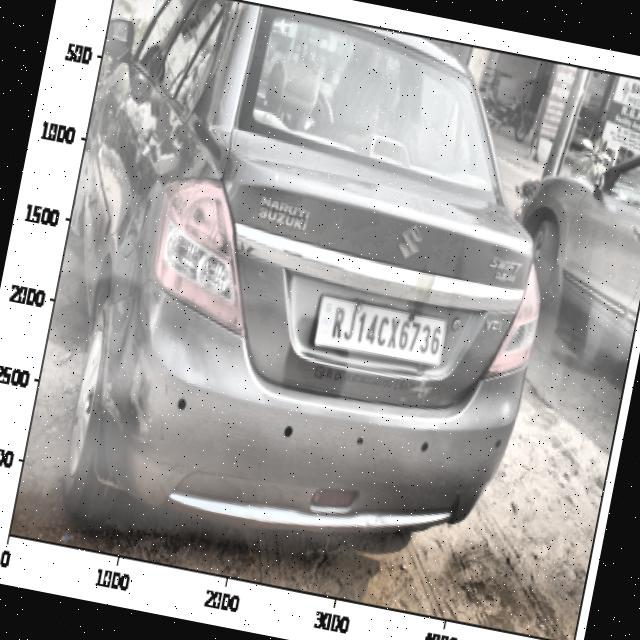license_plate: (322, 292, 450, 370)
